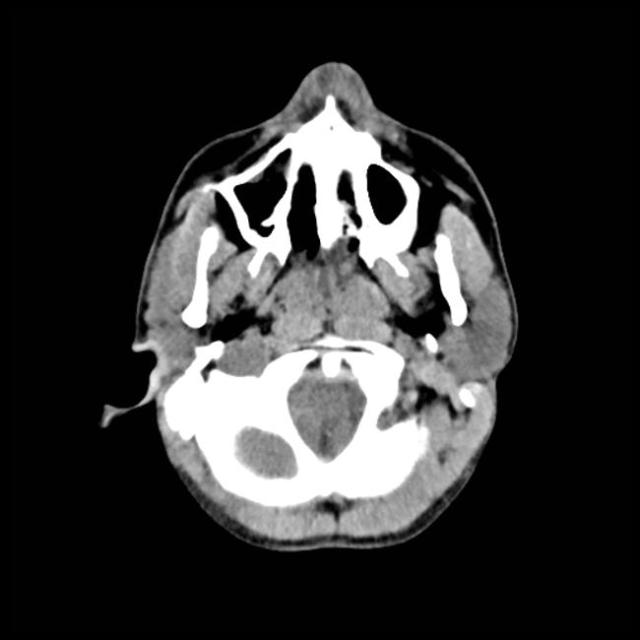lesion: (97, 59, 524, 554)
